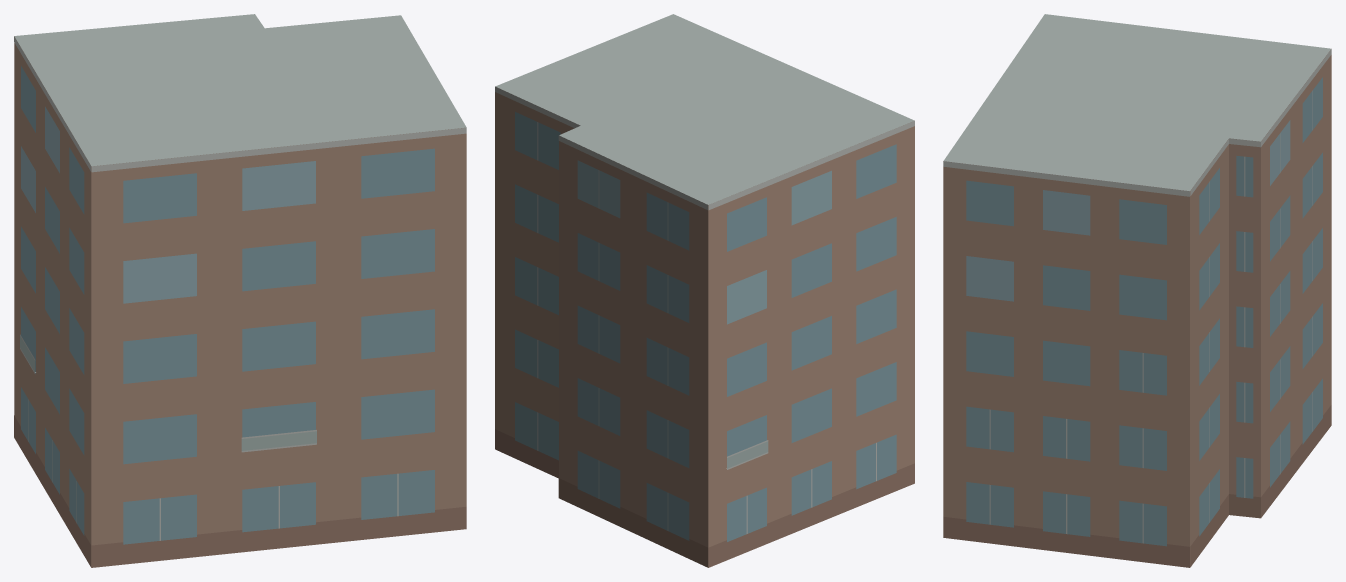
Rendered from survey-upis-33041717.glb.
3 renders of one model, left to right at view 1: azimuth 30°, elevation 25°; view 2: azimuth 150°, elevation 25°; view 3: azimuth 270°, elevation 25°, orthographic. The views are drawn at different scales.
Visible parts, largest first — view 1: survey-upis-33041717.tmp; view 2: survey-upis-33041717.tmp; view 3: survey-upis-33041717.tmp.
Boxes of the visible parts, left/top/right/bottom form: survey-upis-33041717.tmp: left=14, top=14, right=466, bottom=567; survey-upis-33041717.tmp: left=495, top=14, right=914, bottom=567; survey-upis-33041717.tmp: left=943, top=14, right=1331, bottom=567.
Size of the model in its own units: 16.4 by 16.25 by 15.19.
